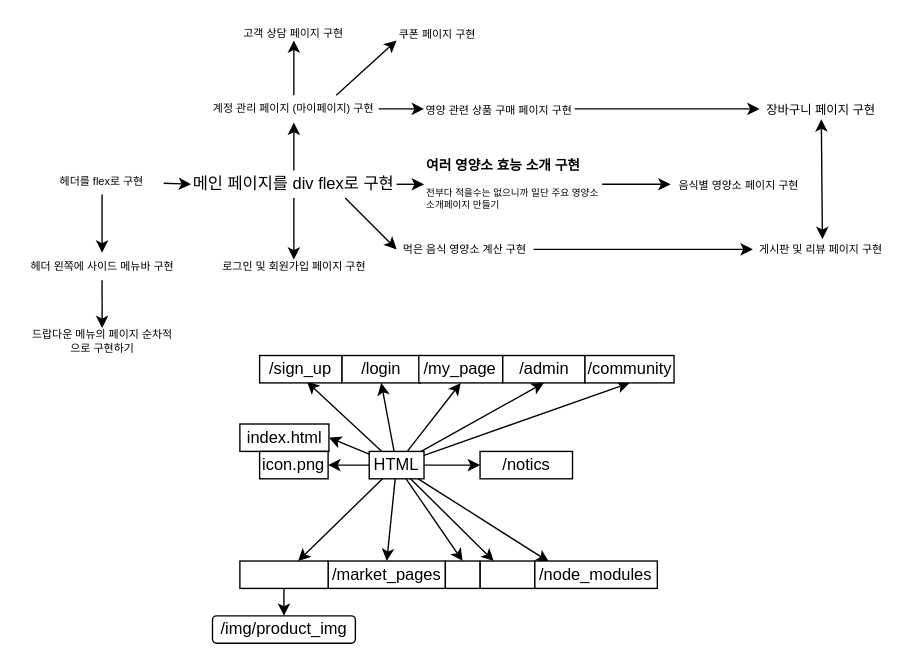
Some shapes in this 914 by 667 pixel diagram are drawn without their labels. Each missing label, with the centre of its shape:
"/css" goes at point 507,574.
"/img" goes at point 283,574.
"/js" goes at point 462,574.
